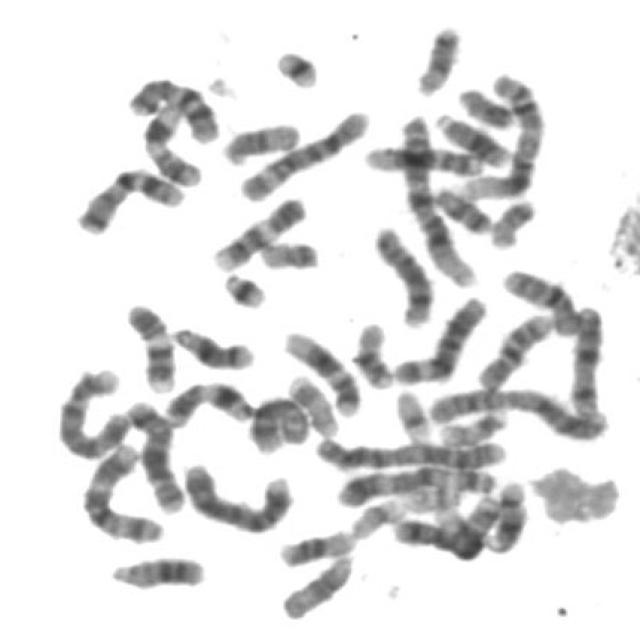A1: (391, 107, 482, 289), (453, 66, 550, 203)
A2: (423, 378, 613, 443), (307, 428, 512, 473)
A3: (75, 436, 170, 546), (330, 458, 504, 510)
B4: (176, 454, 300, 536), (51, 359, 137, 461)
B5: (119, 390, 188, 514), (387, 490, 503, 556)
C10: (470, 304, 559, 392), (496, 259, 588, 338)
C11: (137, 93, 206, 188), (158, 373, 259, 429)
C12: (277, 322, 366, 418), (357, 136, 488, 178)
C6: (233, 101, 375, 204), (387, 286, 492, 386)
C7: (70, 160, 192, 237), (120, 68, 224, 144)
C8: (366, 217, 440, 328), (244, 389, 313, 456)
C9: (206, 189, 312, 273), (119, 296, 179, 394)
D13: (429, 104, 517, 169), (102, 547, 210, 593)
D14: (166, 318, 260, 372), (481, 473, 532, 556)
D15: (274, 544, 360, 623), (215, 114, 306, 168)
E16: (272, 521, 360, 569), (348, 315, 399, 390)
E17: (282, 367, 343, 439), (434, 400, 512, 448)
E18: (408, 16, 467, 97), (426, 177, 497, 235)
F19: (388, 382, 436, 443), (428, 502, 479, 542)
F20: (484, 190, 540, 250), (253, 231, 324, 271)
G21: (267, 40, 325, 90), (217, 263, 272, 311)
G22: (344, 490, 410, 540), (399, 478, 464, 512)
X: (563, 298, 610, 420)
Y: (452, 78, 520, 130)
